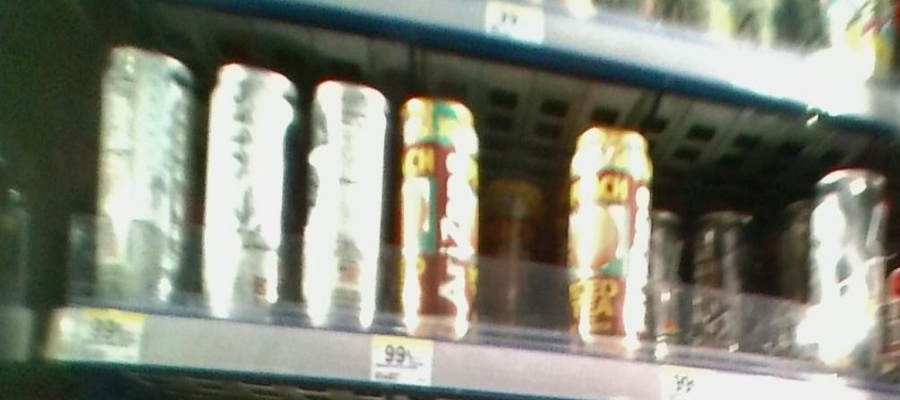bottle: (90, 30, 191, 326), (199, 48, 295, 324), (396, 66, 485, 352), (302, 56, 390, 341), (566, 115, 649, 356), (810, 157, 888, 396), (490, 161, 544, 346), (696, 203, 746, 359), (654, 196, 690, 353)
